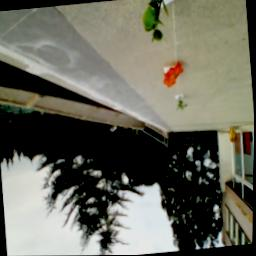herb: (139, 1, 173, 44), (175, 94, 189, 113)
wild: (161, 61, 186, 90)
